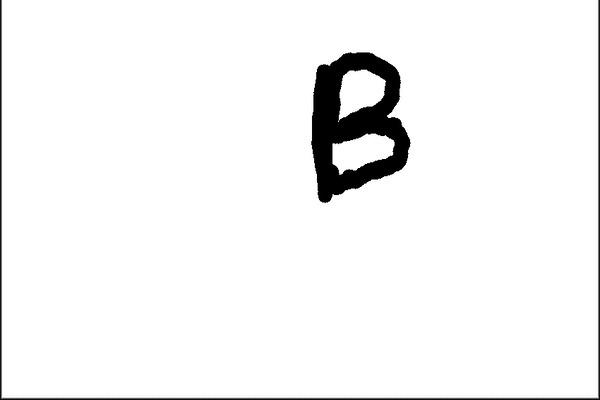B: (304, 43, 421, 207)
